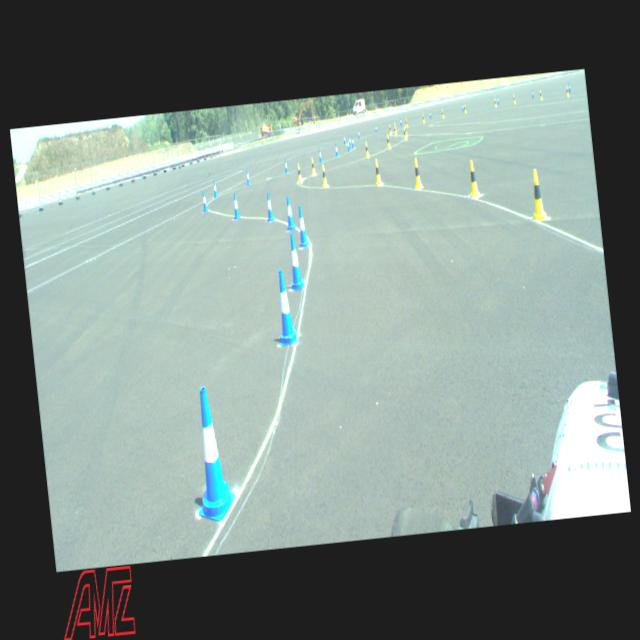blue_cone: (186, 384, 237, 522), (272, 270, 298, 344), (286, 232, 304, 288), (296, 204, 308, 247), (284, 194, 294, 229), (265, 192, 274, 220), (232, 192, 240, 218), (201, 190, 208, 210), (212, 181, 217, 197), (245, 169, 250, 185), (283, 159, 288, 173), (318, 148, 322, 162), (334, 143, 338, 156), (346, 138, 350, 150), (342, 134, 346, 144), (398, 117, 402, 126), (351, 135, 354, 147), (348, 136, 351, 146), (428, 110, 431, 118), (461, 104, 464, 112), (568, 82, 570, 91), (496, 95, 498, 104), (357, 129, 359, 138), (532, 89, 534, 98), (374, 124, 376, 132)
yellow_cone: (527, 168, 547, 219), (467, 158, 479, 196), (412, 158, 422, 187), (373, 158, 382, 184), (322, 164, 328, 186), (296, 162, 302, 182), (310, 157, 316, 175), (364, 140, 369, 157), (402, 126, 407, 140), (386, 134, 390, 148), (565, 85, 569, 96), (388, 124, 392, 134), (512, 95, 516, 104), (404, 124, 407, 136), (404, 118, 408, 127), (441, 109, 444, 118), (539, 90, 542, 98), (394, 124, 396, 136), (422, 113, 424, 122), (394, 121, 396, 130), (494, 98, 496, 106), (464, 104, 466, 112)
